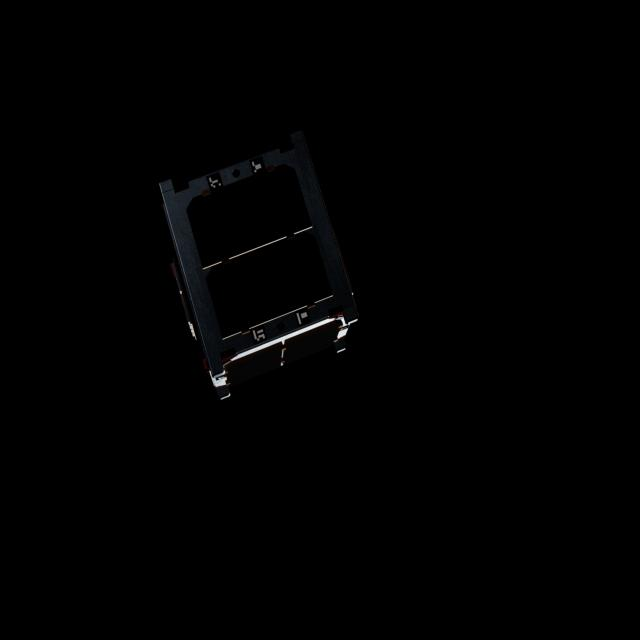satellite: (154, 132, 366, 406)
